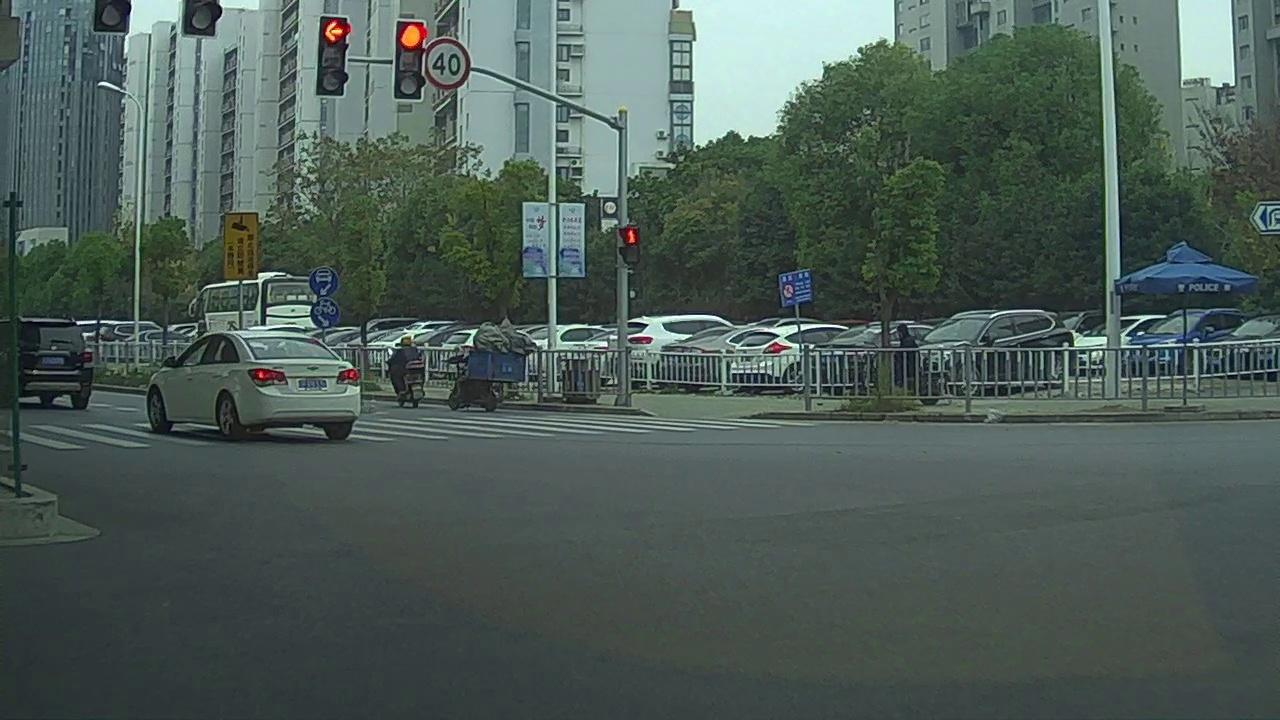traffic_light: (318, 14, 345, 94), (397, 19, 422, 100), (95, 1, 130, 34), (183, 3, 216, 37)
